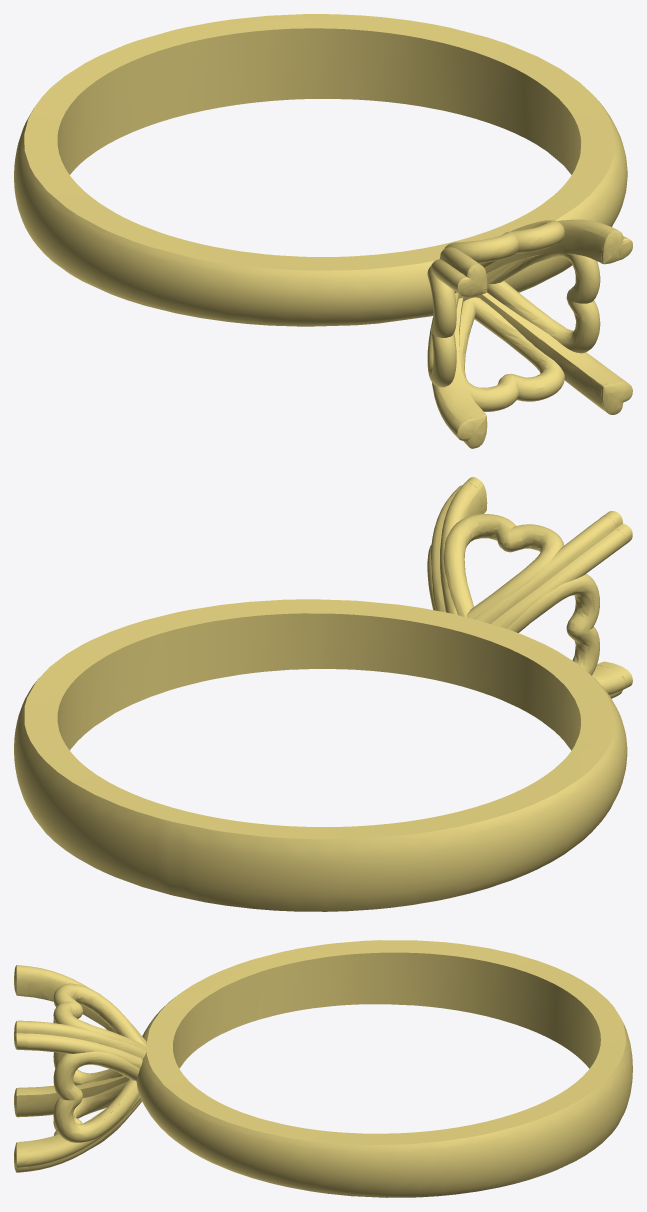
3 views of the same model, one above another, from view 1: azimuth 30°, elevation 25°; view 2: azimuth 150°, elevation 25°; view 3: azimuth 270°, elevation 25° (orthographic). The views are drawn at different scales.
Visible parts, largest first — view 1: lr-0010; view 2: lr-0010; view 3: lr-0010.
Boxes of the visible parts, x1,y1,x2,y2 form: lr-0010: (14, 14, 632, 448); lr-0010: (14, 477, 632, 911); lr-0010: (14, 940, 632, 1197).
Size of the model in its own units: 0.8136 by 0.2686 by 1.
